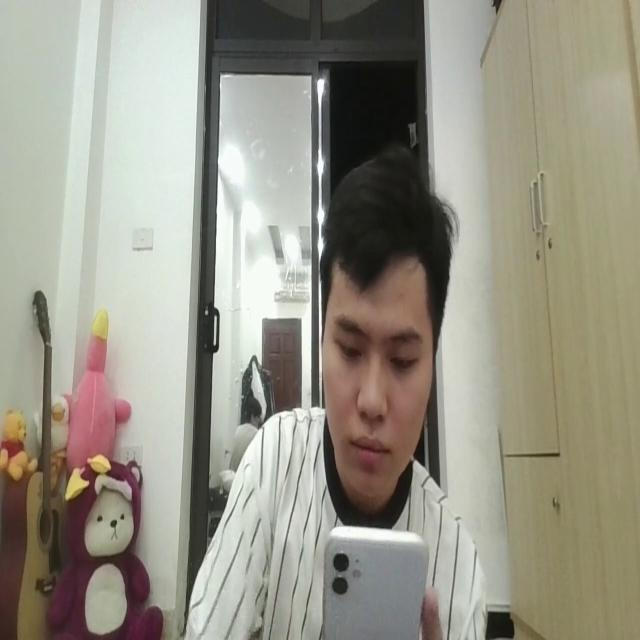phone: (323, 520, 429, 640)
student: (173, 146, 488, 640)
